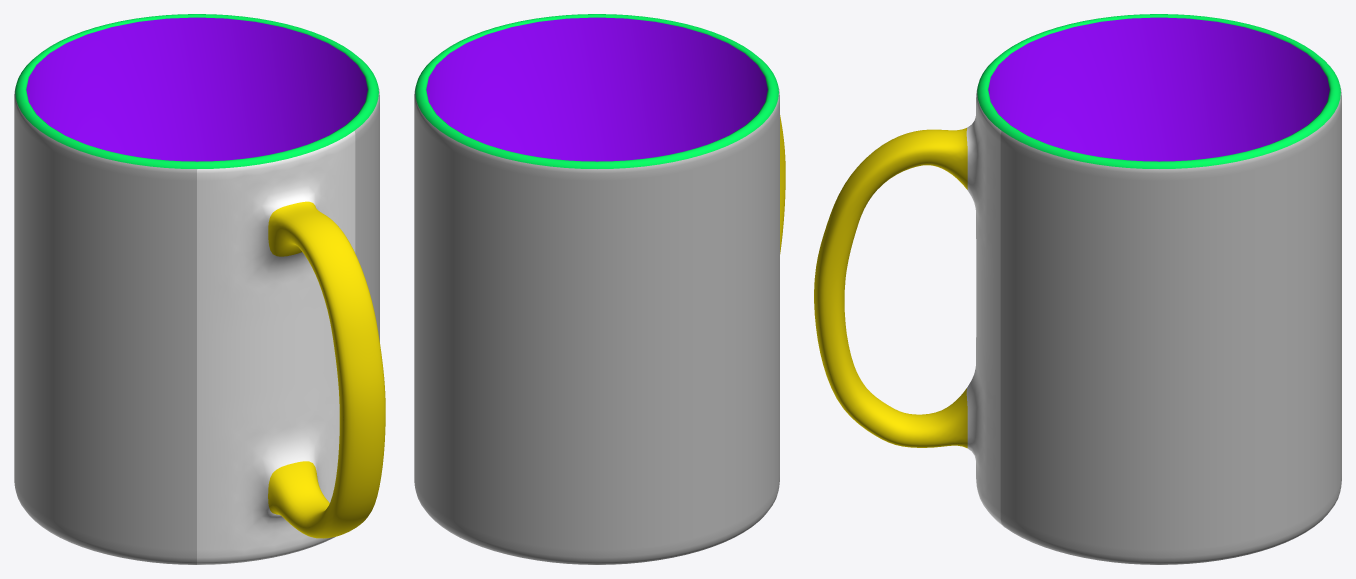
File: caneca.gltf
3 renders of one model, left to right at view 1: azimuth 30°, elevation 25°; view 2: azimuth 150°, elevation 25°; view 3: azimuth 270°, elevation 25°, orthographic.
Visible parts, largest first — view 1: Cylinder001; view 2: Cylinder001; view 3: Cylinder001.
Part boxes in pixels (<box>): Cylinder001: <box>14,14,385,564</box>; Cylinder001: <box>414,14,785,564</box>; Cylinder001: <box>814,14,1341,564</box>.
Size of the model in its own units: 2.02 by 2.46 by 2.92.
